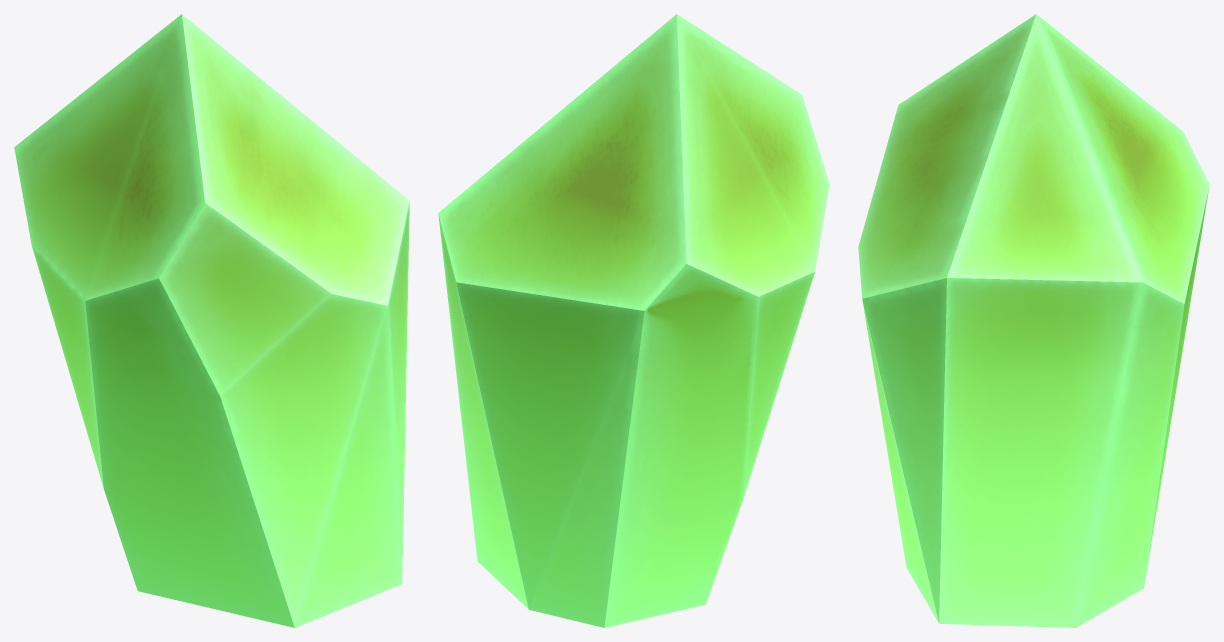
Rendered from crystal_piece_002.fbx.
3 views of the same model, side by side, from view 1: azimuth 30°, elevation 25°; view 2: azimuth 150°, elevation 25°; view 3: azimuth 270°, elevation 25° (orthographic). The views are drawn at different scales.
Visible parts, largest first — view 1: crystal_piece_002; view 2: crystal_piece_002; view 3: crystal_piece_002.
Part boxes in pixels (x1,y1,x2,y2): crystal_piece_002: [14, 14, 409, 627]; crystal_piece_002: [438, 14, 829, 627]; crystal_piece_002: [858, 14, 1209, 627].
Bounding box in the file's own units: 0.6287 × 1.16 × 0.6902.
Materials: 1 (1 with a texture image).
